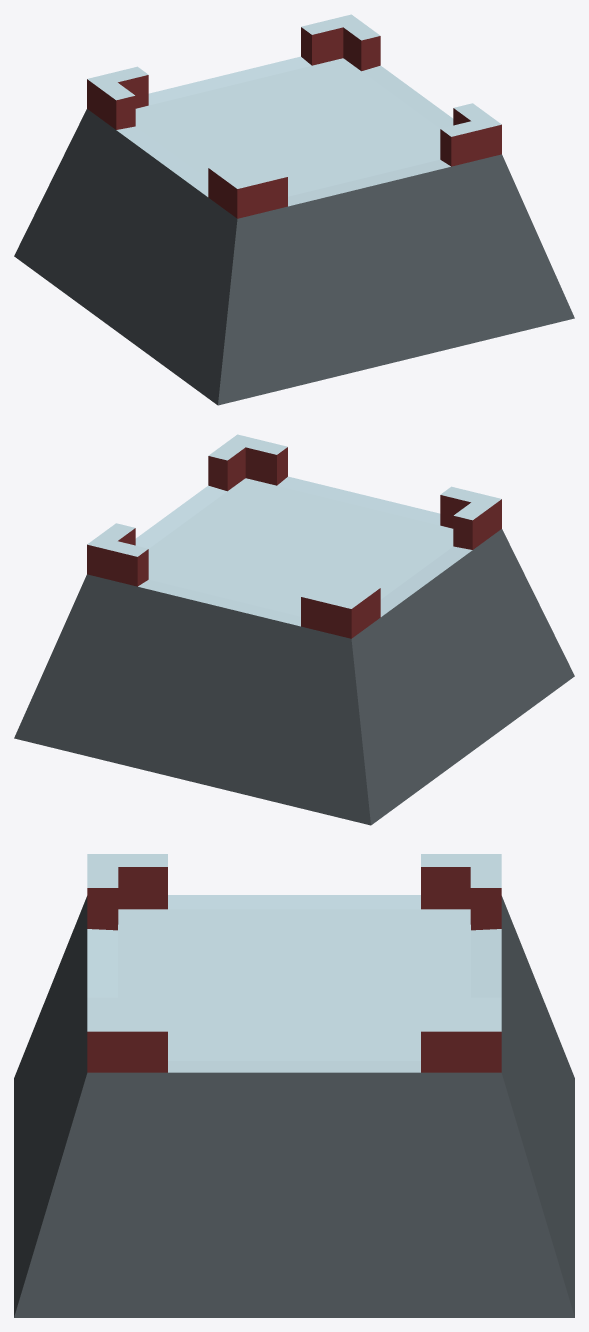
Rendered from SM_Bld_Pirate_Fort_04_Snow.fbx.
3 views of the same model, one above another, from view 1: azimuth 30°, elevation 25°; view 2: azimuth 150°, elevation 25°; view 3: azimuth 270°, elevation 25° (orthographic). The views are drawn at different scales.
Parts seen in each view (by area): view 1: SM_Bld_Pirate_Fort_04_Snow; view 2: SM_Bld_Pirate_Fort_04_Snow; view 3: SM_Bld_Pirate_Fort_04_Snow.
Part boxes in pixels (bbox=[...]): SM_Bld_Pirate_Fort_04_Snow: bbox=[14, 14, 574, 405]; SM_Bld_Pirate_Fort_04_Snow: bbox=[14, 434, 574, 825]; SM_Bld_Pirate_Fort_04_Snow: bbox=[14, 854, 574, 1317].
Size of the model in its own units: 169 by 84.11 by 168.
1 material, 1 textured.
